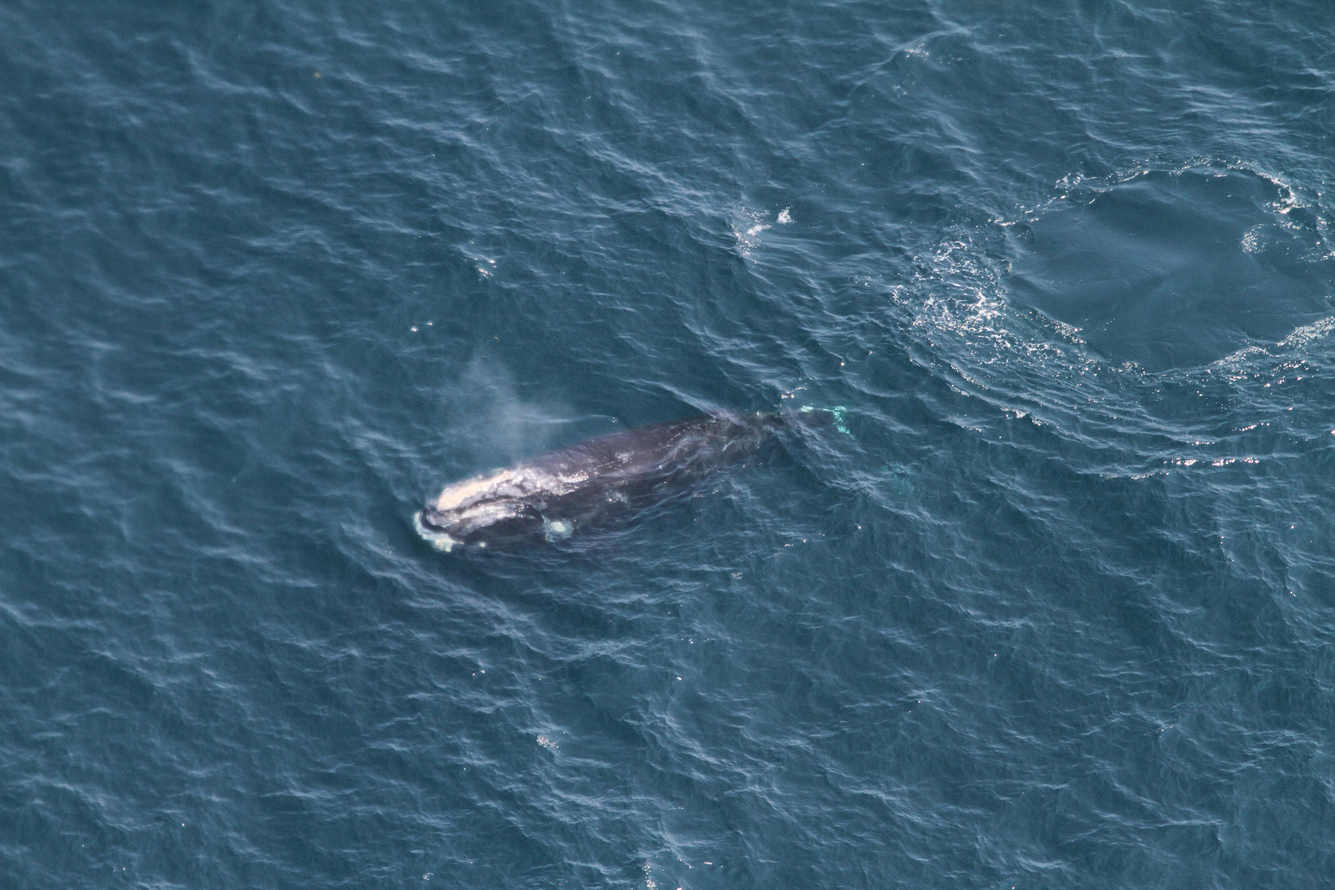whale: (402, 339, 918, 567)
